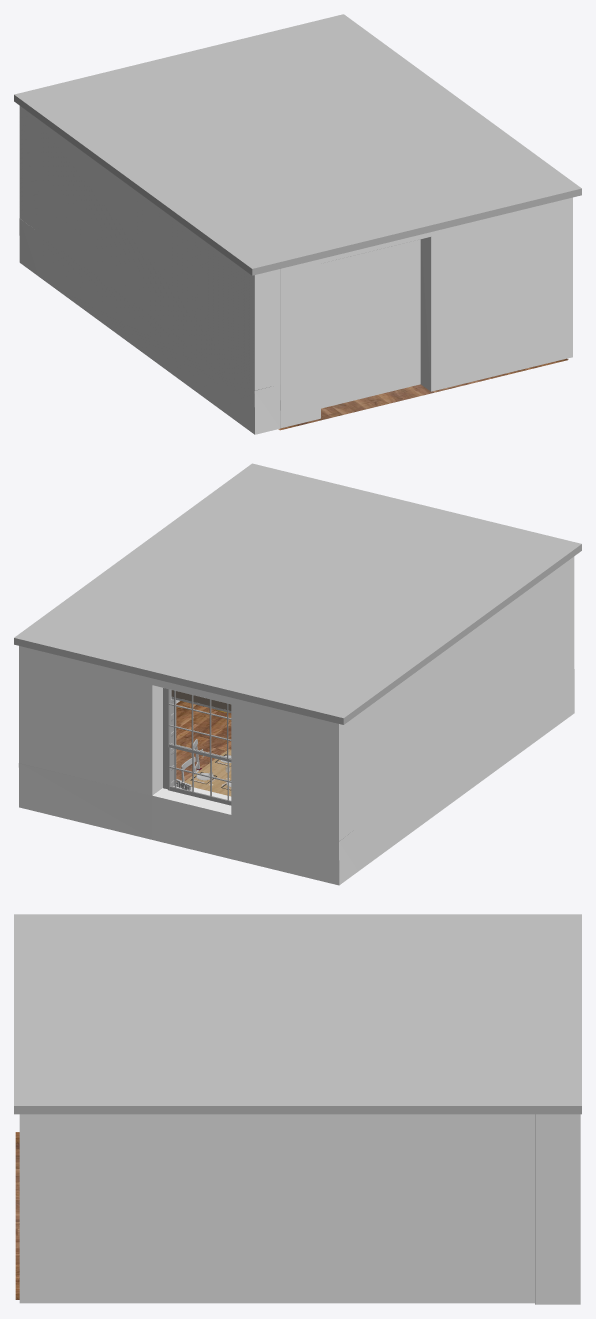
The model's file is kitchen.glb.
3 views of the same model, one above another, from view 1: azimuth 30°, elevation 25°; view 2: azimuth 150°, elevation 25°; view 3: azimuth 270°, elevation 25° (orthographic). The views are drawn at different scales.
Visible parts, largest first — view 1: 126_Ceiling, 127_Walls, 263_Walls, 125_Floor; view 2: 263_Walls, 126_Ceiling, 125_Floor, 203_WindowFrame, 63_Tabletop, 218_WindowFrame; view 3: 126_Ceiling, 127_Walls, 263_Walls, 125_Floor.
Boxes of the visible parts, box(x1,y1,x2,y2) form: 126_Ceiling: box(14, 14, 581, 275); 127_Walls: box(280, 197, 572, 428); 263_Walls: box(19, 106, 280, 434); 125_Floor: box(278, 358, 568, 430); 263_Walls: box(18, 556, 574, 885); 126_Ceiling: box(14, 463, 581, 724); 125_Floor: box(176, 701, 231, 781); 203_WindowFrame: box(167, 689, 231, 805); 63_Tabletop: box(184, 749, 231, 796); 218_WindowFrame: box(163, 688, 176, 789); 126_Ceiling: box(14, 914, 581, 1114); 127_Walls: box(19, 1114, 534, 1303); 263_Walls: box(535, 1114, 580, 1304); 125_Floor: box(15, 1132, 19, 1299).
Size of the model in its own units: 6.92 by 3.38 by 8.65.
Materials: 65 (18 with a texture image).
